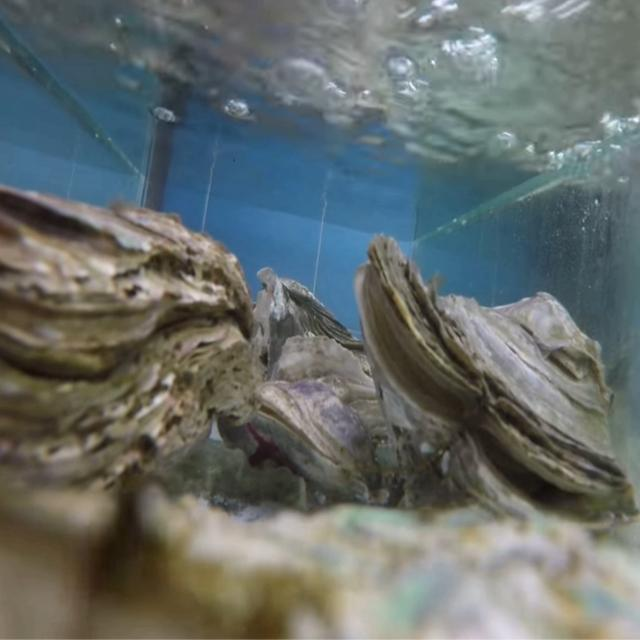Oyster-Closed: (0, 185, 255, 516), (246, 336, 405, 508)
Oyster-Indeterminate: (0, 478, 640, 640), (252, 266, 368, 383)
Oyster-Open: (355, 233, 640, 541)
